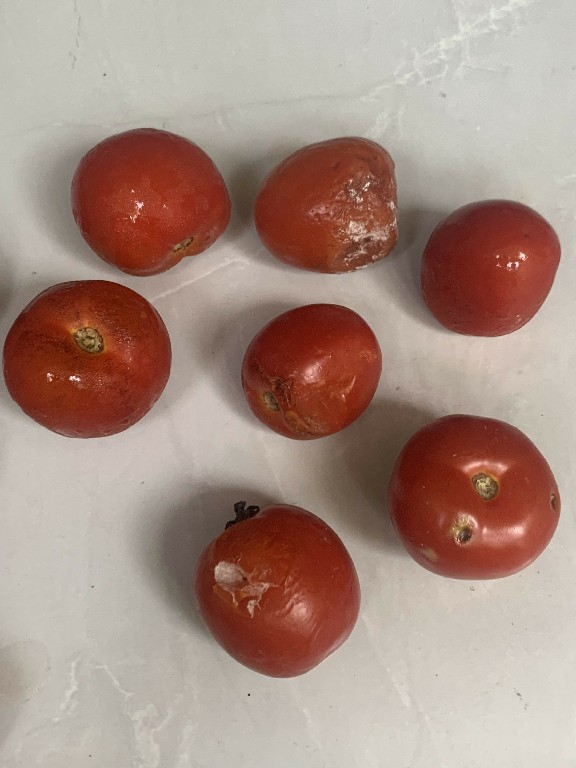NG: (182, 489, 373, 689), (375, 412, 564, 595), (1, 274, 178, 440), (243, 124, 405, 276), (233, 296, 387, 444)
OK: (69, 119, 238, 298), (413, 199, 568, 349)
